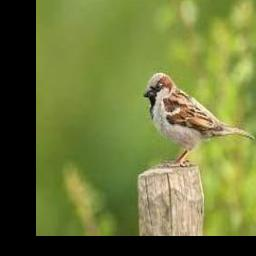Sparrow: (143, 72, 254, 166)
